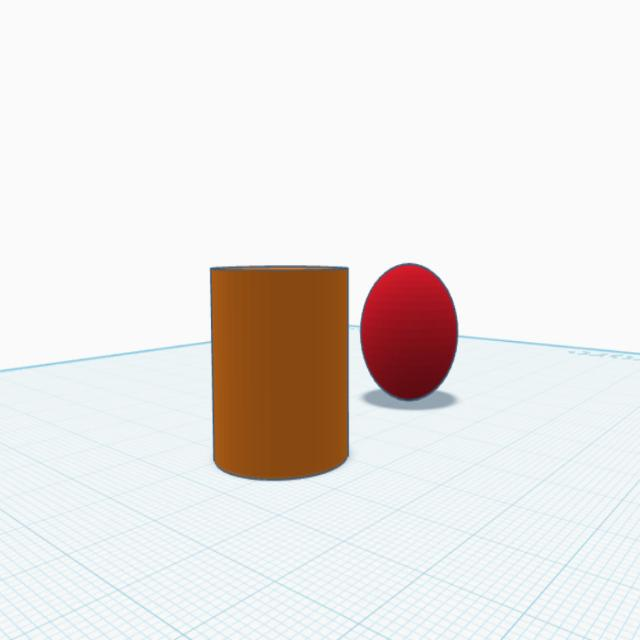sphere: (356, 257, 463, 406)
